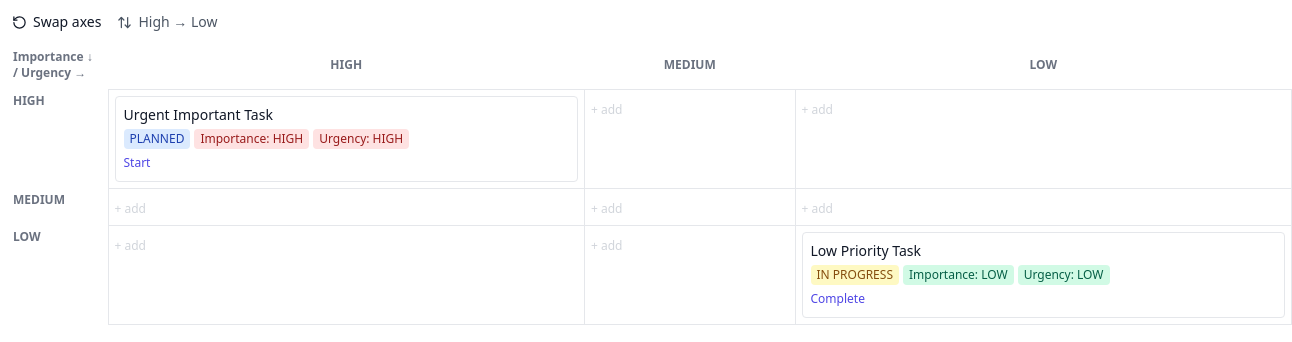
Test case: TaskMatrix › swaps row/column header labels when swap-axes is clicked
Check: the column heading "Importance ↓ / Urgency →" is shown, box top-left (12, 48), bottom-right (108, 89)
Click the button with test id "swap-axes" at (57, 22), box top-left (12, 12), bottom-right (101, 32)
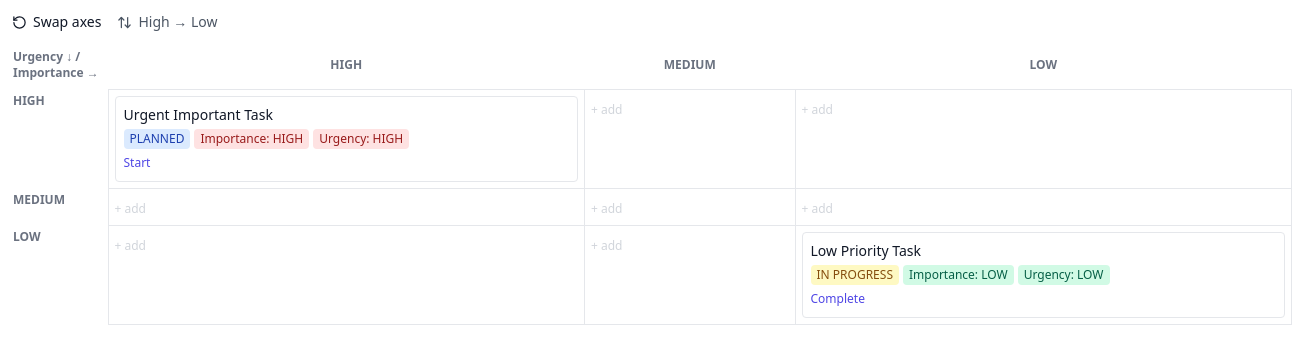
Check: the column heading "Urgency ↓ / Importance →" is shown, box top-left (12, 48), bottom-right (108, 89)
